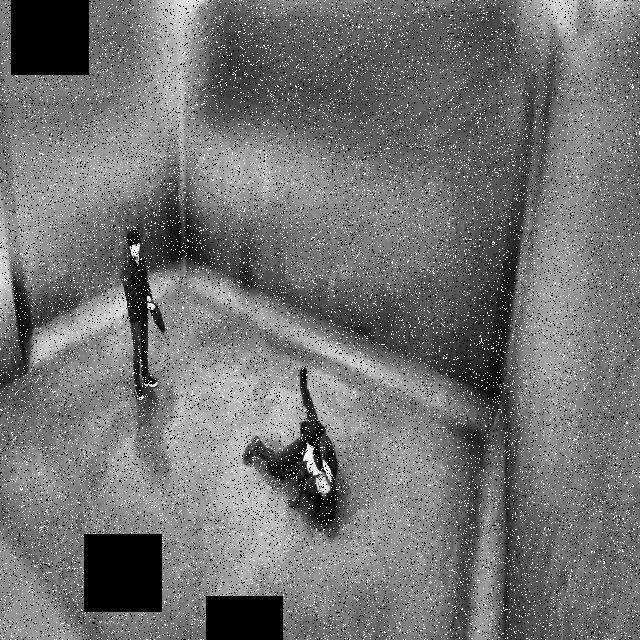assult: (114, 188, 354, 535), (240, 356, 347, 536)
